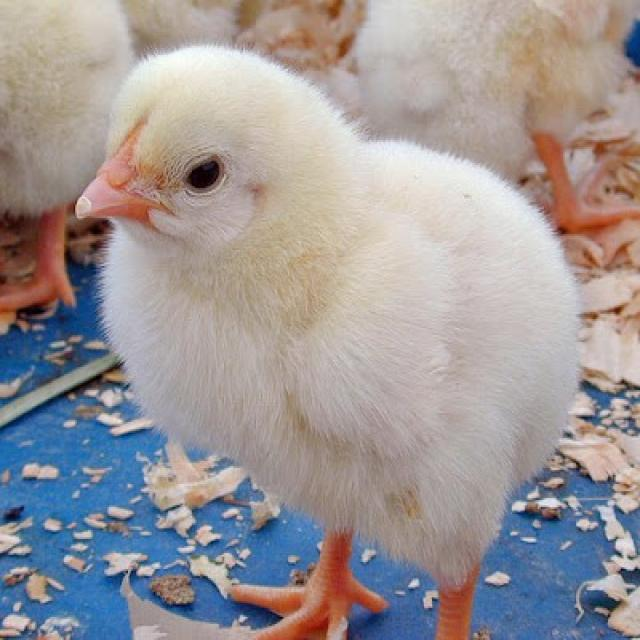poussin: (73, 43, 576, 640), (331, 0, 630, 246), (0, 0, 129, 332)
